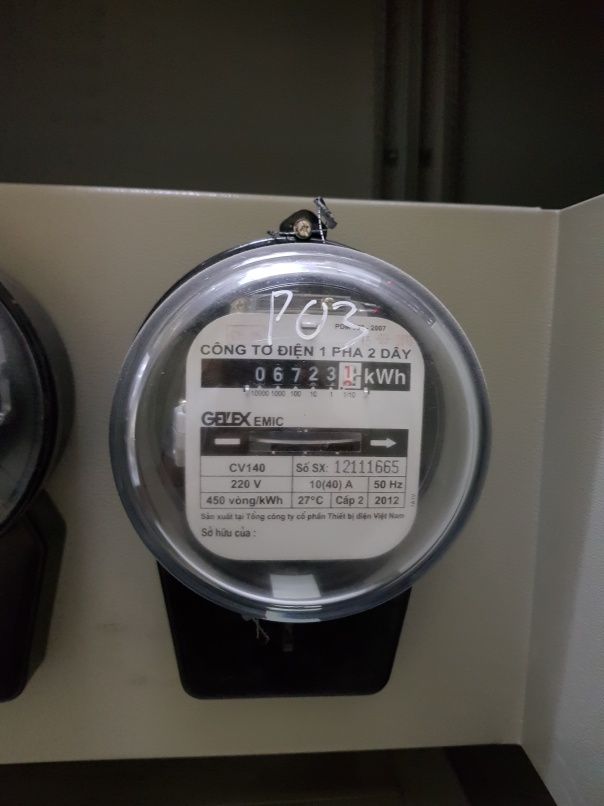counter: (203, 358, 413, 389)
electricity_meter: (108, 238, 495, 629)
